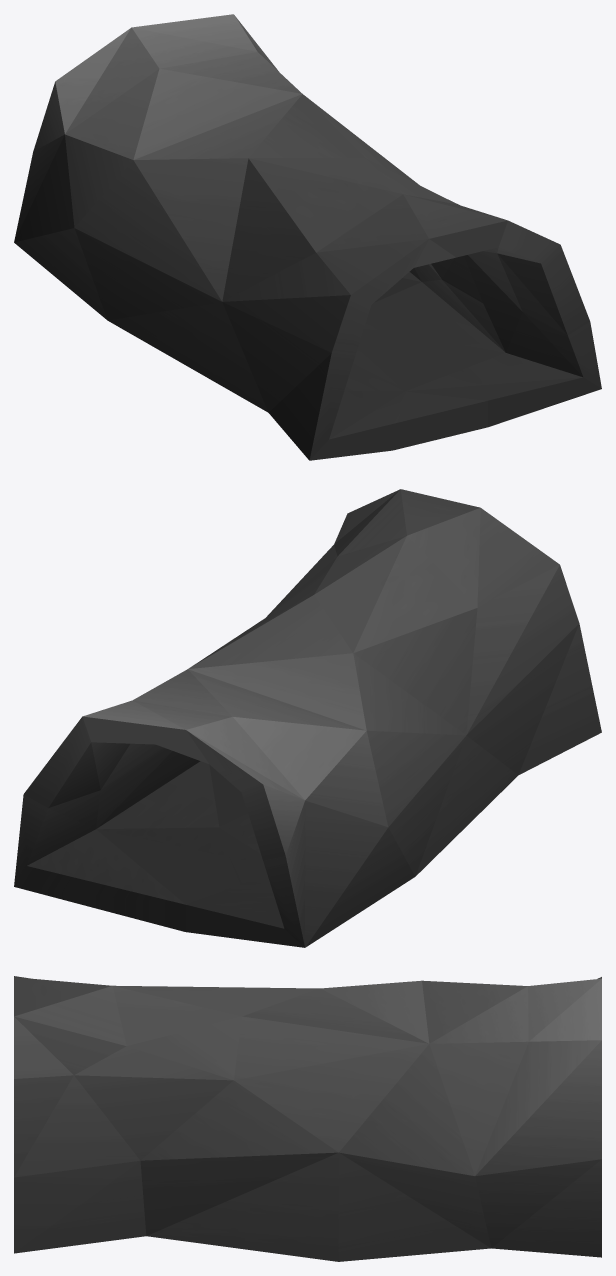
File: GL-Cave-part-01-LOD3.fbx
3 views of the same model, one above another, from view 1: azimuth 30°, elevation 25°; view 2: azimuth 150°, elevation 25°; view 3: azimuth 270°, elevation 25° (orthographic).
Parts seen in each view (by area): view 1: GL_Cave_part_01; view 2: GL_Cave_part_01; view 3: GL_Cave_part_01.
Part boxes in pixels (x1,y1,x2,y2): GL_Cave_part_01: [14, 14, 601, 460]; GL_Cave_part_01: [14, 489, 601, 947]; GL_Cave_part_01: [14, 976, 601, 1261].
Bounding box in the file's own units: 3.62 × 2.32 × 6.01.
